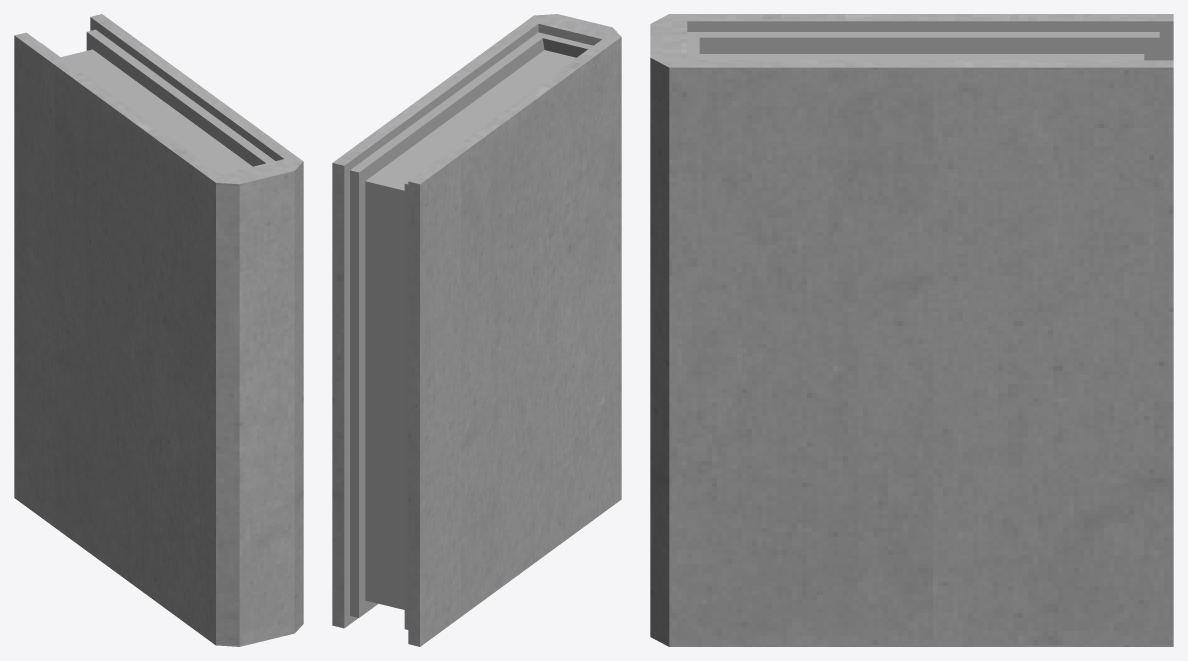
The model's file is book.glb.
3 renders of one model, left to right at view 1: azimuth 30°, elevation 25°; view 2: azimuth 150°, elevation 25°; view 3: azimuth 270°, elevation 25°, orthographic. The views are drawn at different scales.
Parts seen in each view (by area): view 1: Book; view 2: Book; view 3: Book.
Part boxes in pixels (x1,y1,x2,y2): Book: (14,14,303,646); Book: (332,14,621,646); Book: (650,14,1173,646).
Bounding box in the file's own units: 0.0331 × 0.1668 × 0.1365.
Materials: 1 (1 with a texture image).
